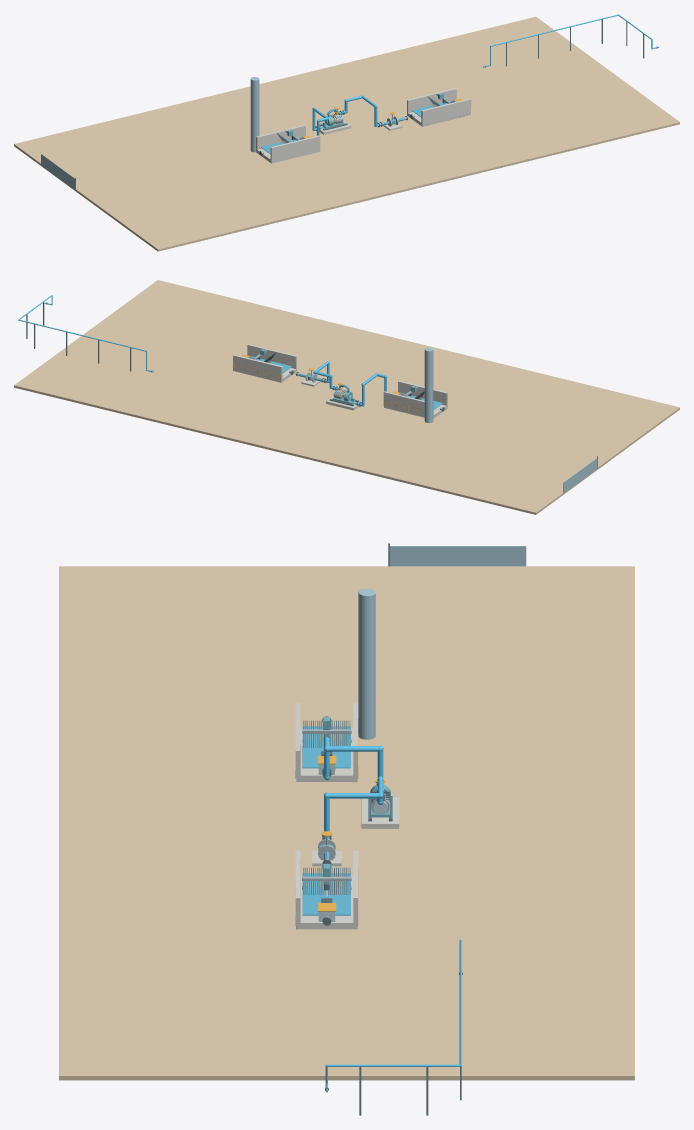
The picture shows the model from 3 angles, top to bottom: view 1: azimuth 30°, elevation 25°; view 2: azimuth 150°, elevation 25°; view 3: azimuth 270°, elevation 25°; orthographic projection. The views are drawn at different scales.
Visible parts, largest first — view 1: render-batch-9, render-batch-8, render-batch-5, render-batch-0; view 2: render-batch-9, render-batch-8, render-batch-5, render-batch-0; view 3: render-batch-9, render-batch-5, render-batch-8, render-batch-2, render-batch-0, render-batch-1, render-batch-6.
Boxes of the visible parts, bbox=[...] form: render-batch-9: bbox=[14, 16, 679, 251]; render-batch-8: bbox=[256, 88, 471, 163]; render-batch-5: bbox=[41, 77, 259, 189]; render-batch-0: bbox=[312, 14, 659, 135]; render-batch-9: bbox=[14, 280, 679, 514]; render-batch-8: bbox=[233, 344, 447, 418]; render-batch-5: bbox=[424, 347, 597, 493]; render-batch-0: bbox=[18, 295, 386, 406]; render-batch-9: bbox=[59, 566, 634, 1080]; render-batch-5: bbox=[358, 546, 526, 739]; render-batch-8: bbox=[295, 703, 399, 929]; render-batch-2: bbox=[302, 726, 382, 915]; render-batch-0: bbox=[323, 737, 462, 1092]; render-batch-1: bbox=[303, 716, 392, 925]; render-batch-6: bbox=[302, 729, 389, 917].
Bounding box in the file's own units: 98.02 × 12.24 × 43.
